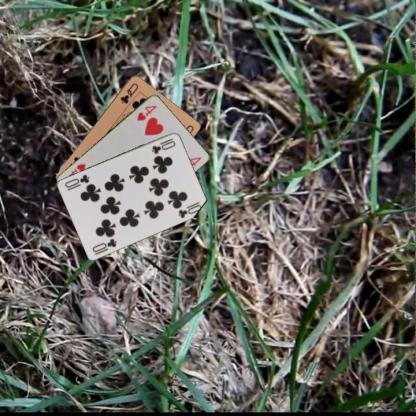10c: (149, 135, 177, 155), (89, 236, 118, 253)
4h: (134, 102, 158, 122)
Qc: (118, 80, 140, 105)
